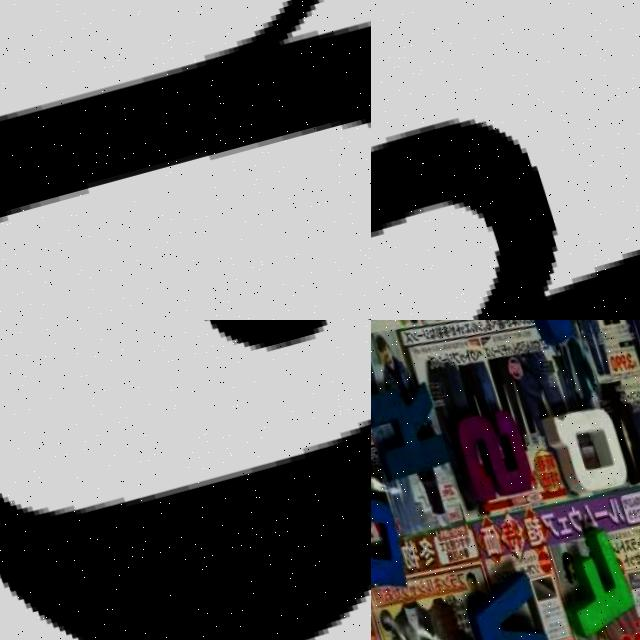C: (0, 412, 371, 640)
F: (546, 520, 632, 634)
H: (371, 61, 640, 320)
J: (514, 320, 598, 348)
K: (371, 377, 448, 474)
P: (371, 487, 409, 603)
Q: (540, 401, 630, 503)
R: (0, 0, 371, 320)
S: (444, 405, 530, 500)
V: (462, 571, 552, 640)
